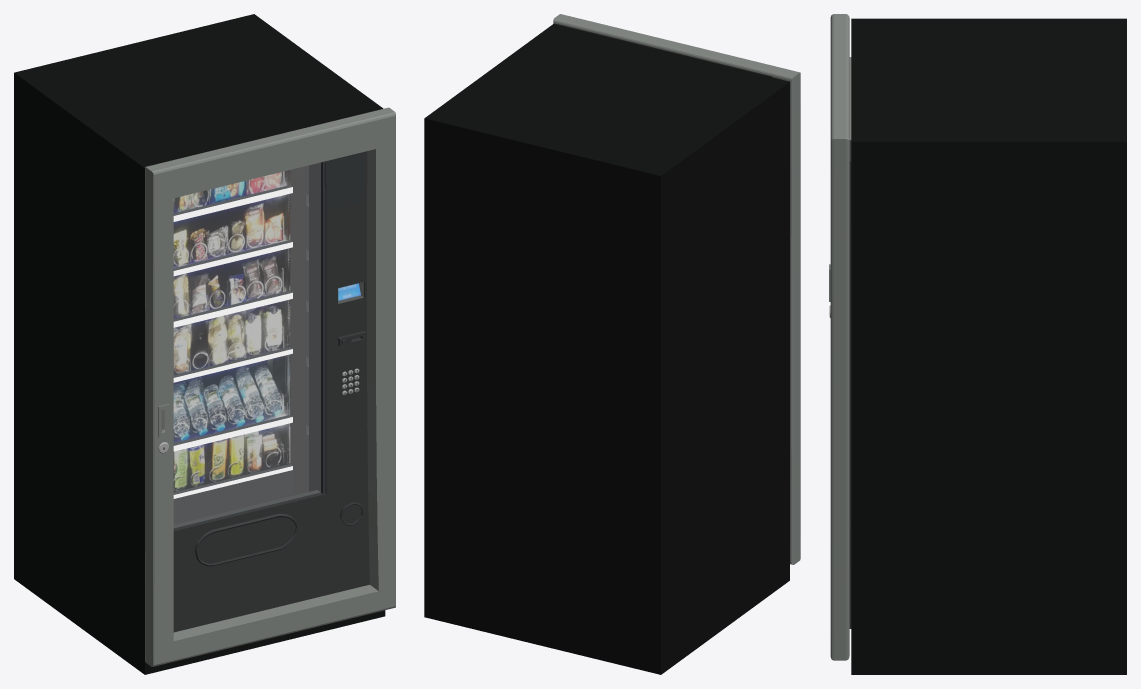
Rendered from VendingMachine.glb.
3 views of the same model, side by side, from view 1: azimuth 30°, elevation 25°; view 2: azimuth 150°, elevation 25°; view 3: azimuth 270°, elevation 25° (orthographic). The views are drawn at different scales.
Visible parts, largest first — view 1: Vending Machine, Vending Machine.018, Vending Machine.005, Vending Machine.002; view 2: Vending Machine, Vending Machine.018; view 3: Vending Machine, Vending Machine.018.
Boxes of the visible parts, left/top/right/bottom form: Vending Machine: left=14, top=14, right=385, bottom=674; Vending Machine.018: left=145, top=107, right=395, bottom=666; Vending Machine.005: left=174, top=163, right=320, bottom=527; Vending Machine.002: left=197, top=517, right=295, bottom=563; Vending Machine: left=424, top=24, right=789, bottom=674; Vending Machine.018: left=553, top=14, right=800, bottom=564; Vending Machine: left=851, top=18, right=1126, bottom=674; Vending Machine.018: left=829, top=14, right=851, bottom=660.
Size of the model in its own units: 100 by 200 by 101.
17 materials, 2 textured.
